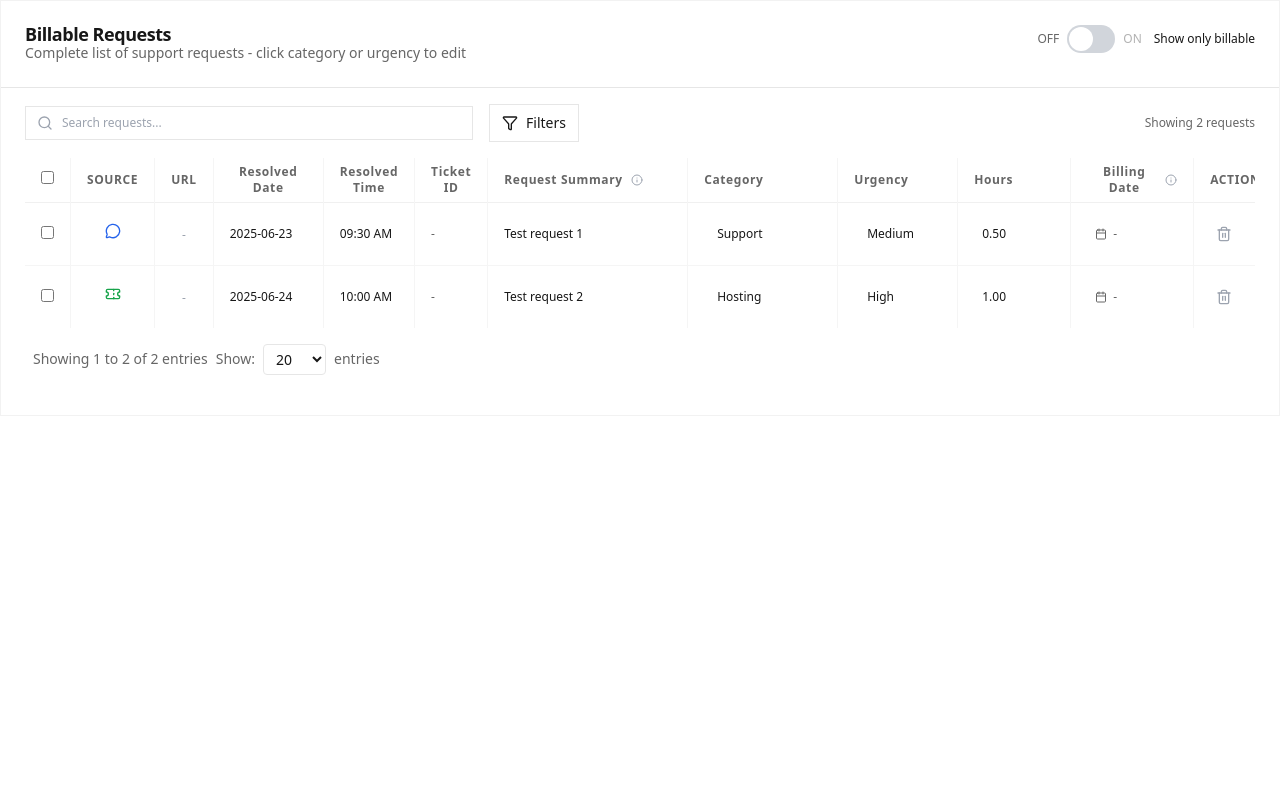
Test: SupportTableSection › should open filter panel when Filters button is clicked
What coordinates should you click on to do the following:
click the button "Filters"
I would click on:
 (534, 123)
Its box is x1=489 y1=104 x2=579 y2=142.
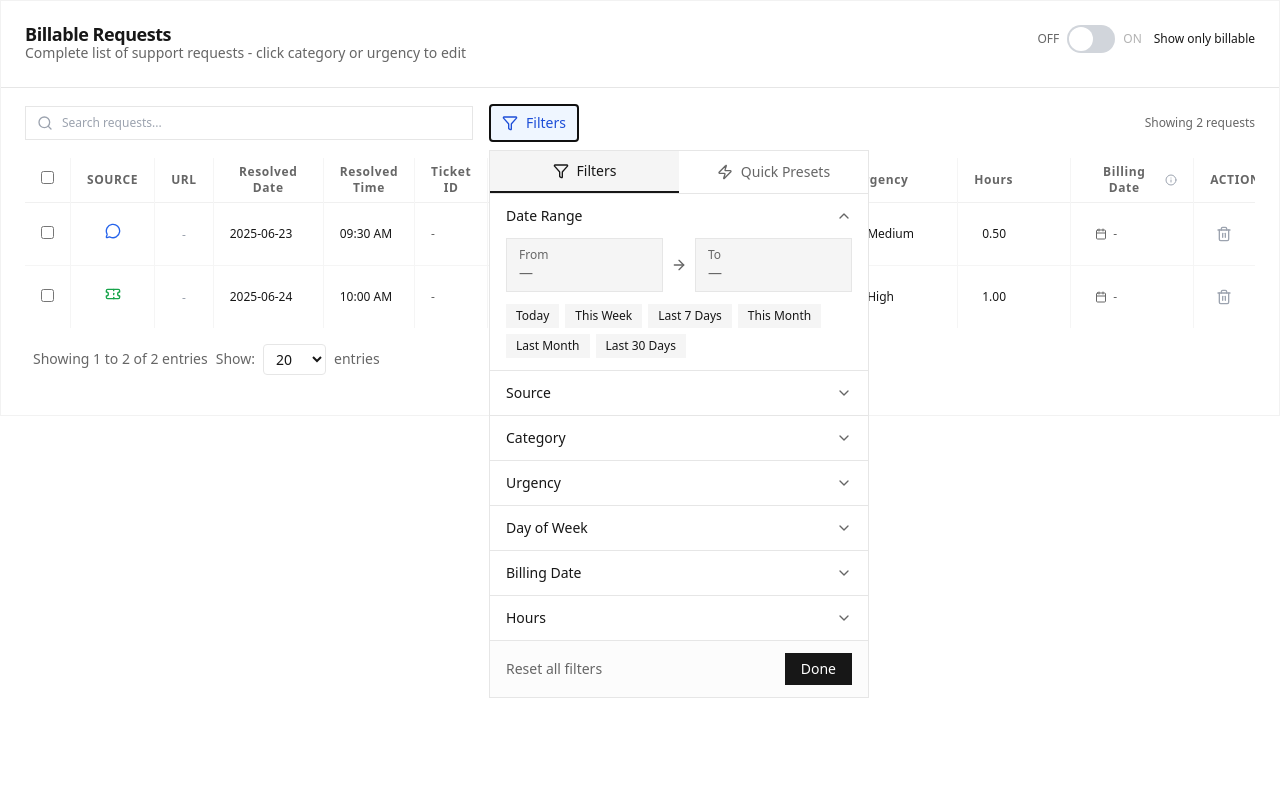
Expected: the button "Reset all filters" is shown, x1=506 y1=659 x2=602 y2=679
